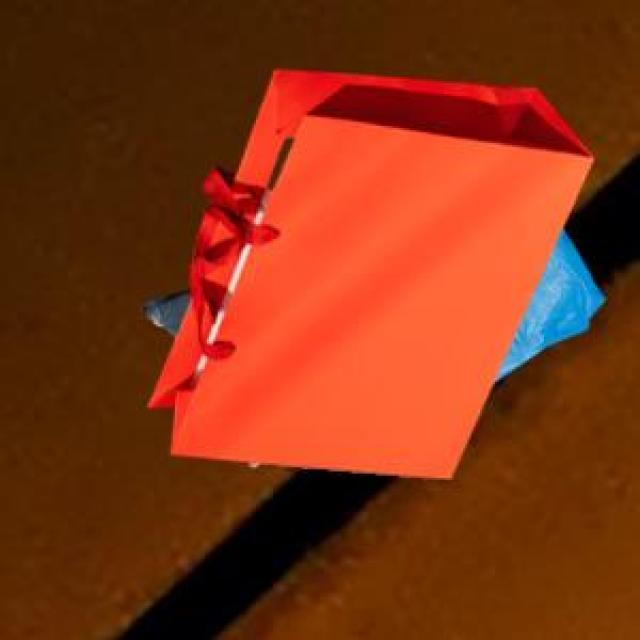miscellaneous trash: (139, 286, 188, 333)
paper: (143, 66, 589, 474)
